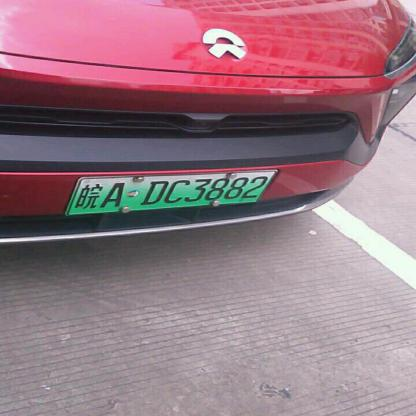lp: (63, 170, 278, 214)
